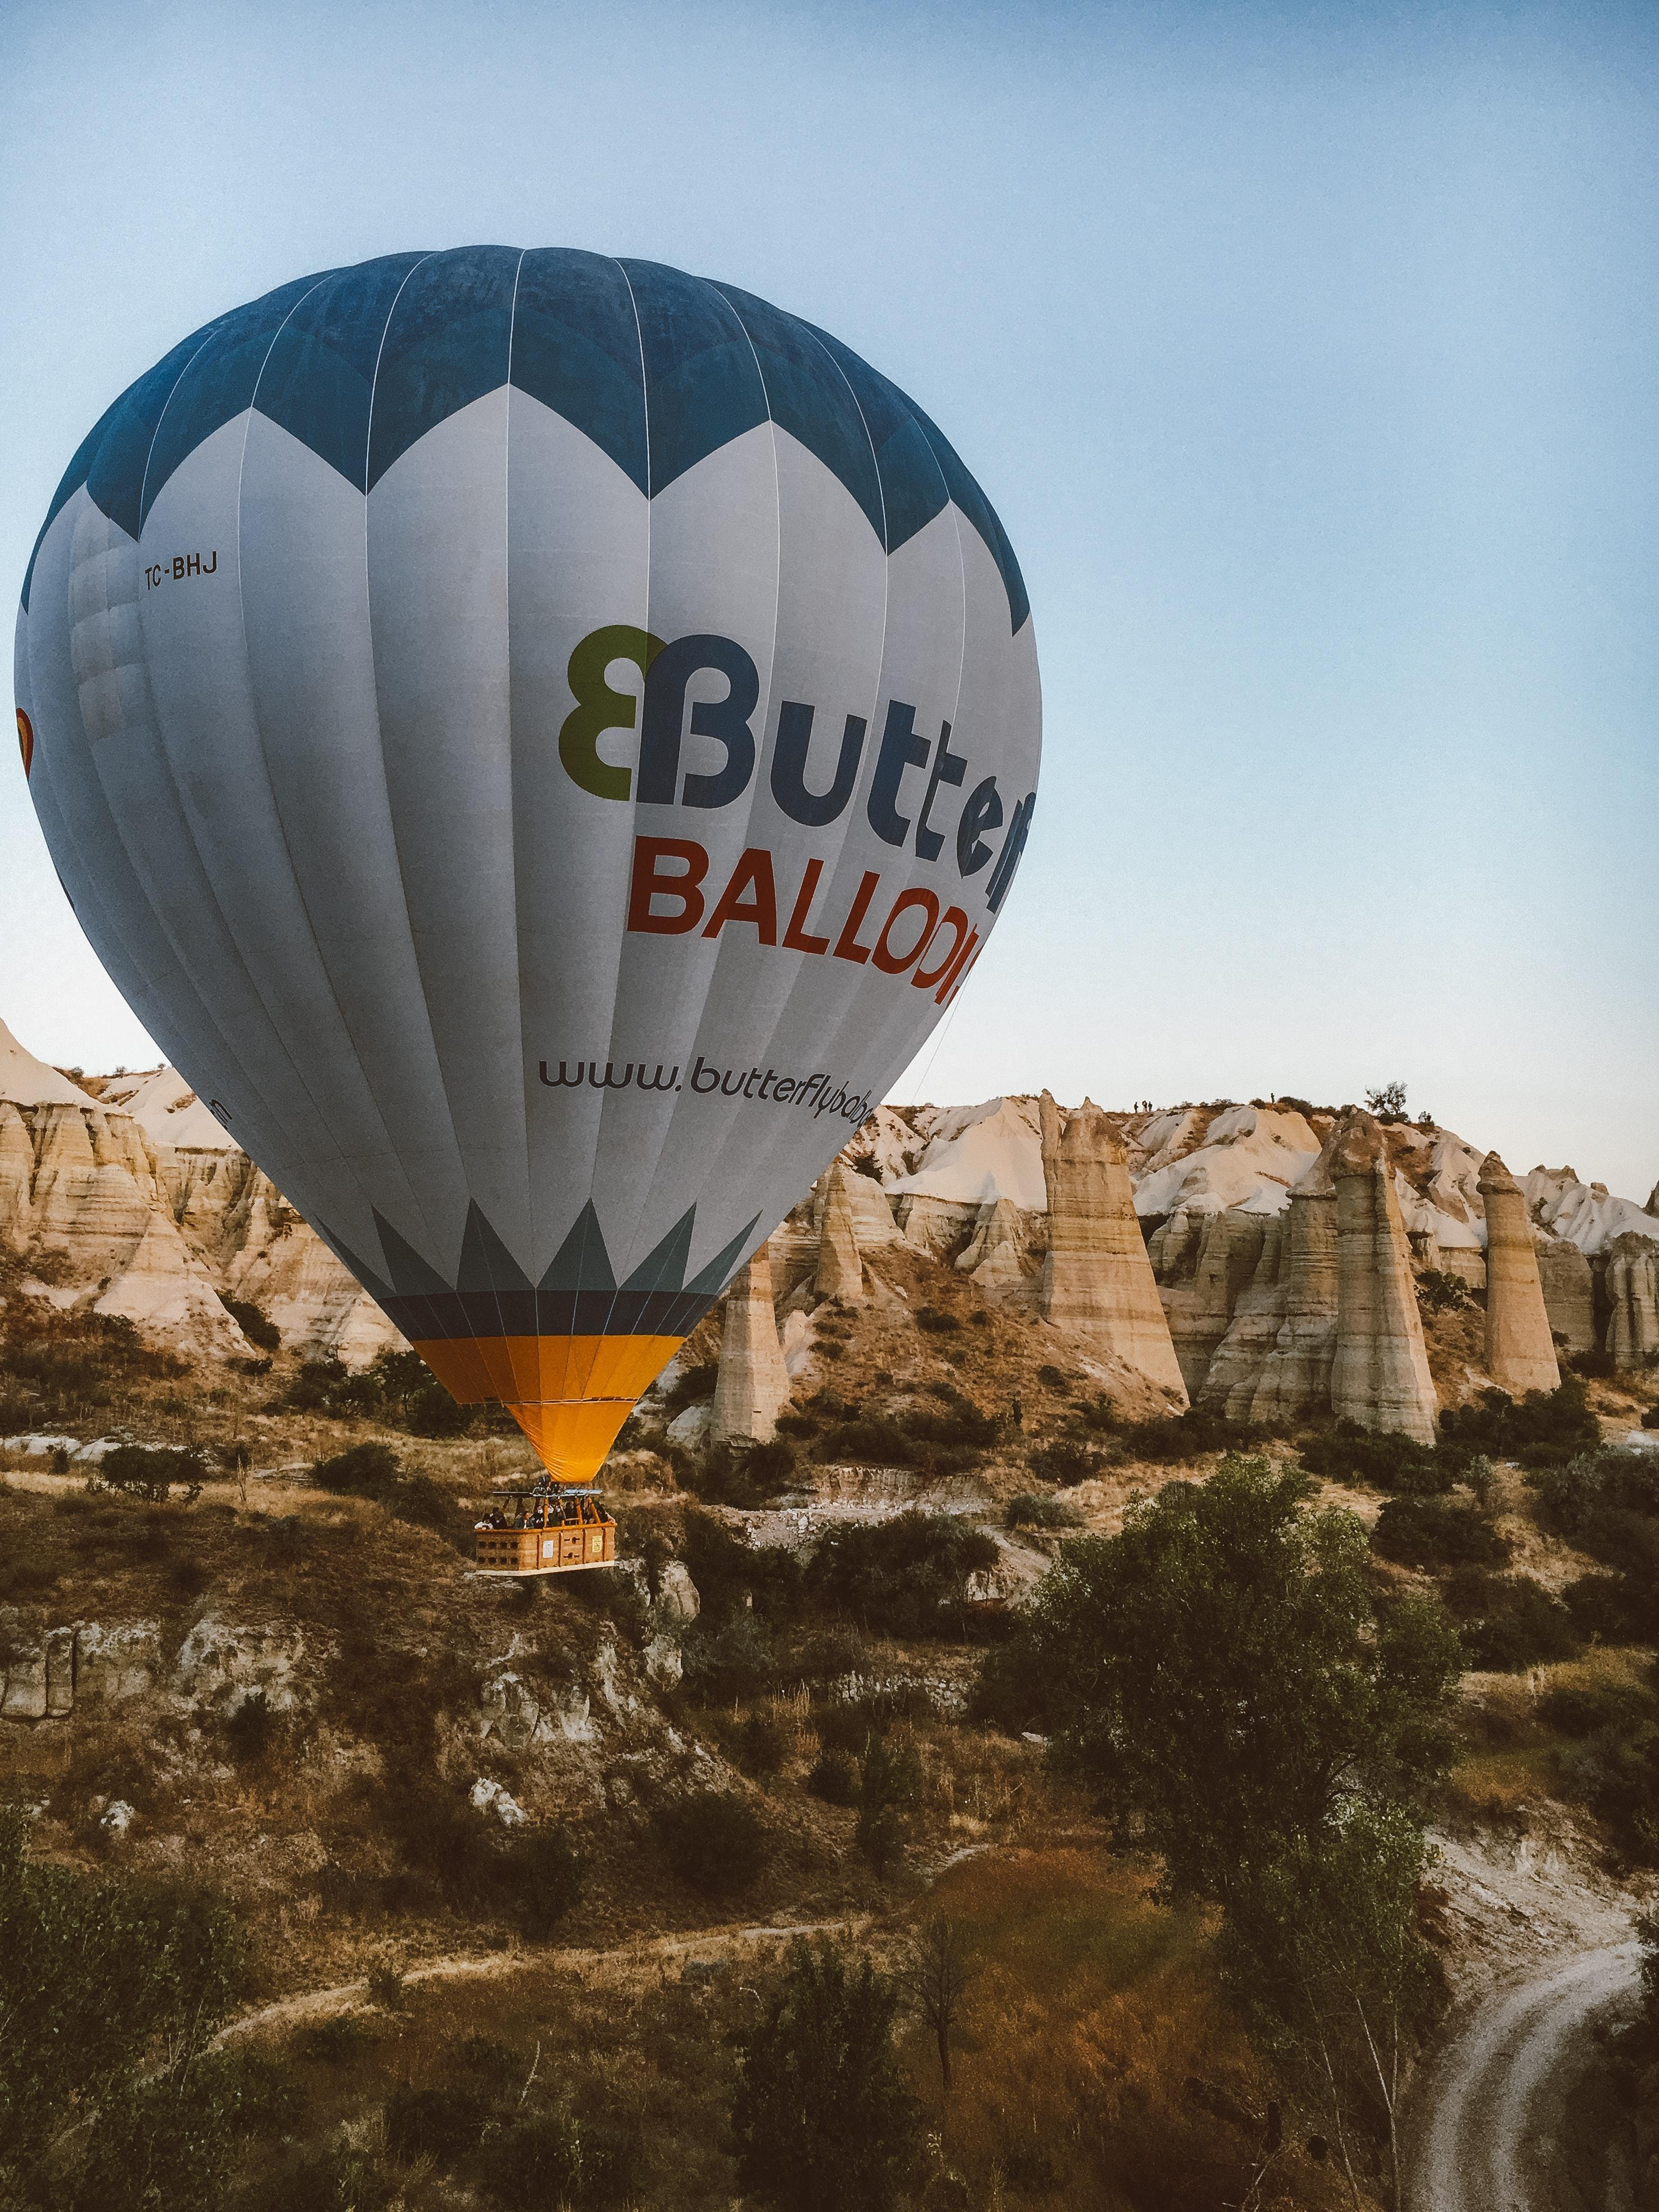hot air ballon: (24, 230, 1051, 1612)
